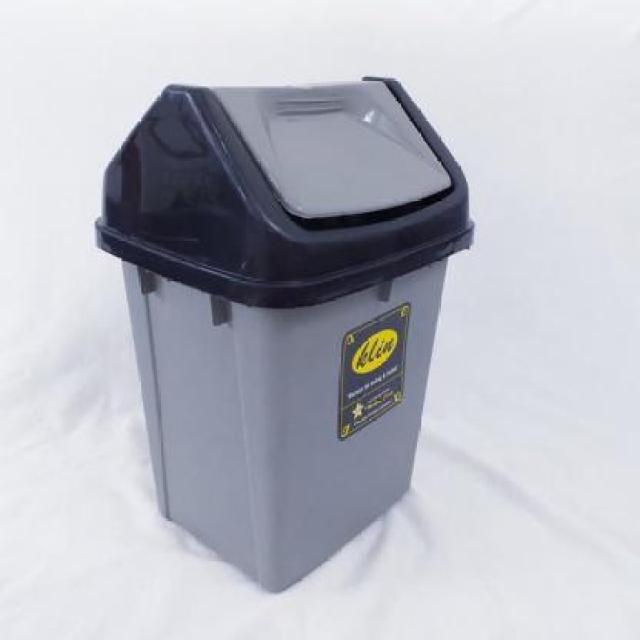garbage container: (86, 64, 491, 613)
